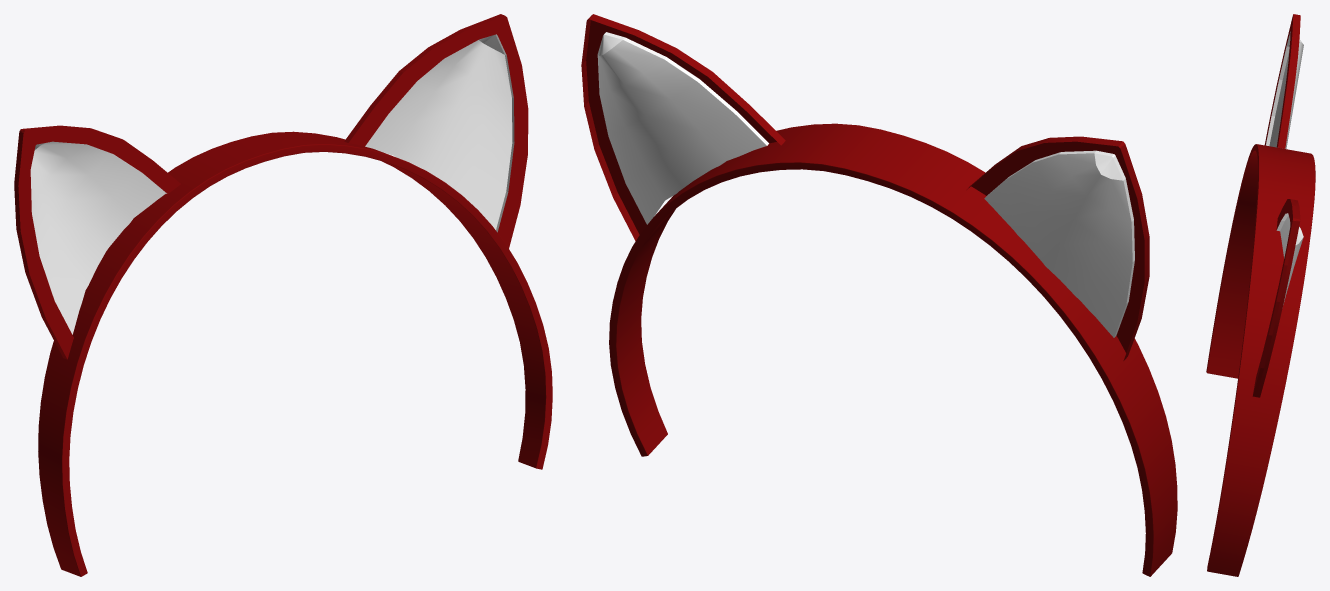
File: Cat_Ear_HeadBand.fbx
The picture shows the model from 3 angles, left to right: view 1: azimuth 30°, elevation 25°; view 2: azimuth 150°, elevation 25°; view 3: azimuth 270°, elevation 25°; orthographic projection. The views are drawn at different scales.
Visible parts, largest first — view 1: Cat_ear_headband; view 2: Cat_ear_headband; view 3: Cat_ear_headband.
Part boxes in pixels (bbox=[...]): Cat_ear_headband: bbox=[14, 14, 552, 576]; Cat_ear_headband: bbox=[581, 14, 1177, 576]; Cat_ear_headband: bbox=[1206, 14, 1315, 576].
Bounding box in the file's own units: 54.36 × 43.27 × 11.71.
Materials: 1 (1 with a texture image).
